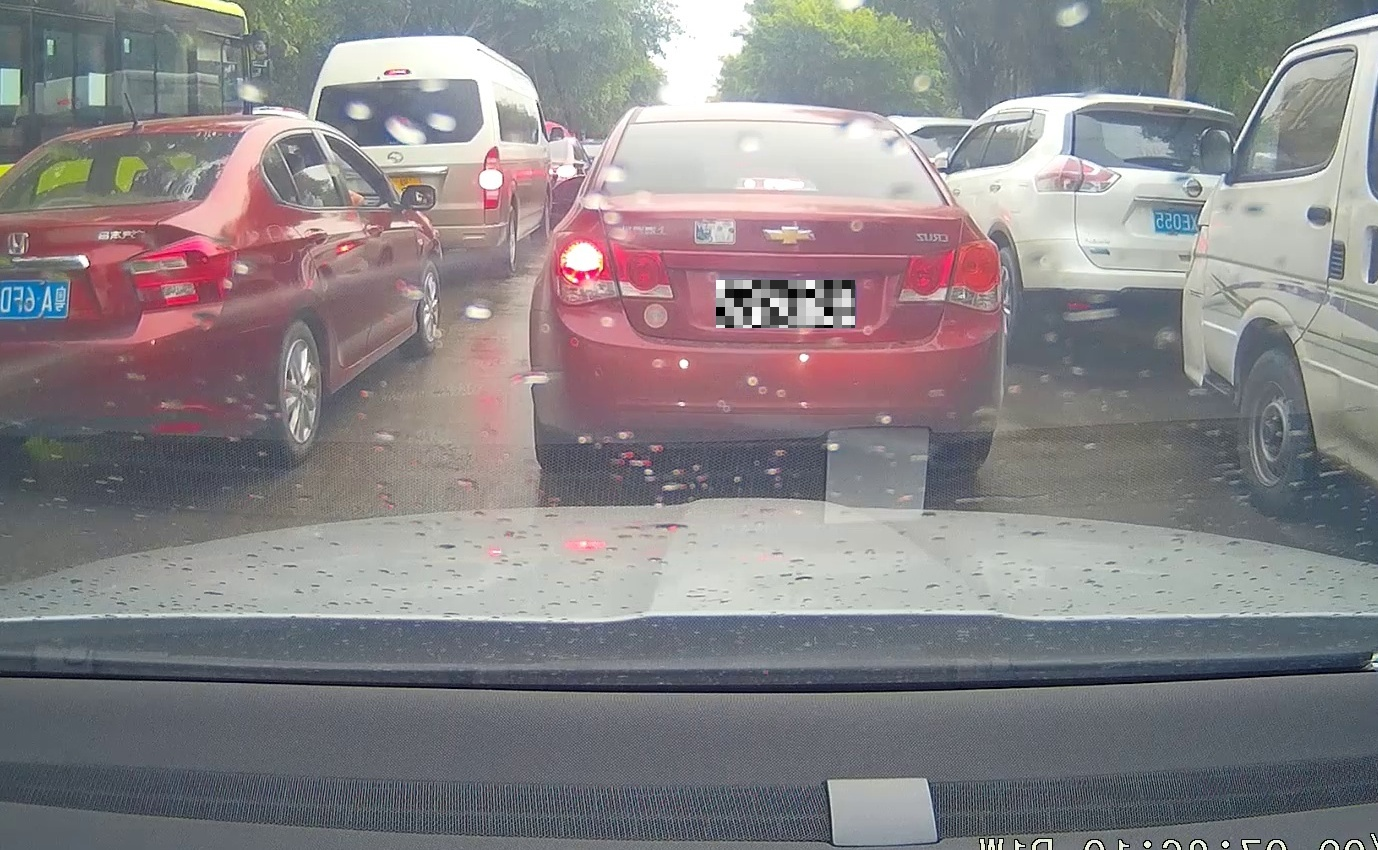L_light: (549, 231, 677, 307)
R_light: (899, 239, 1002, 311)
T_light: (739, 177, 806, 192)
day-left: (528, 102, 1005, 474)
plate_1: (716, 280, 855, 328)
